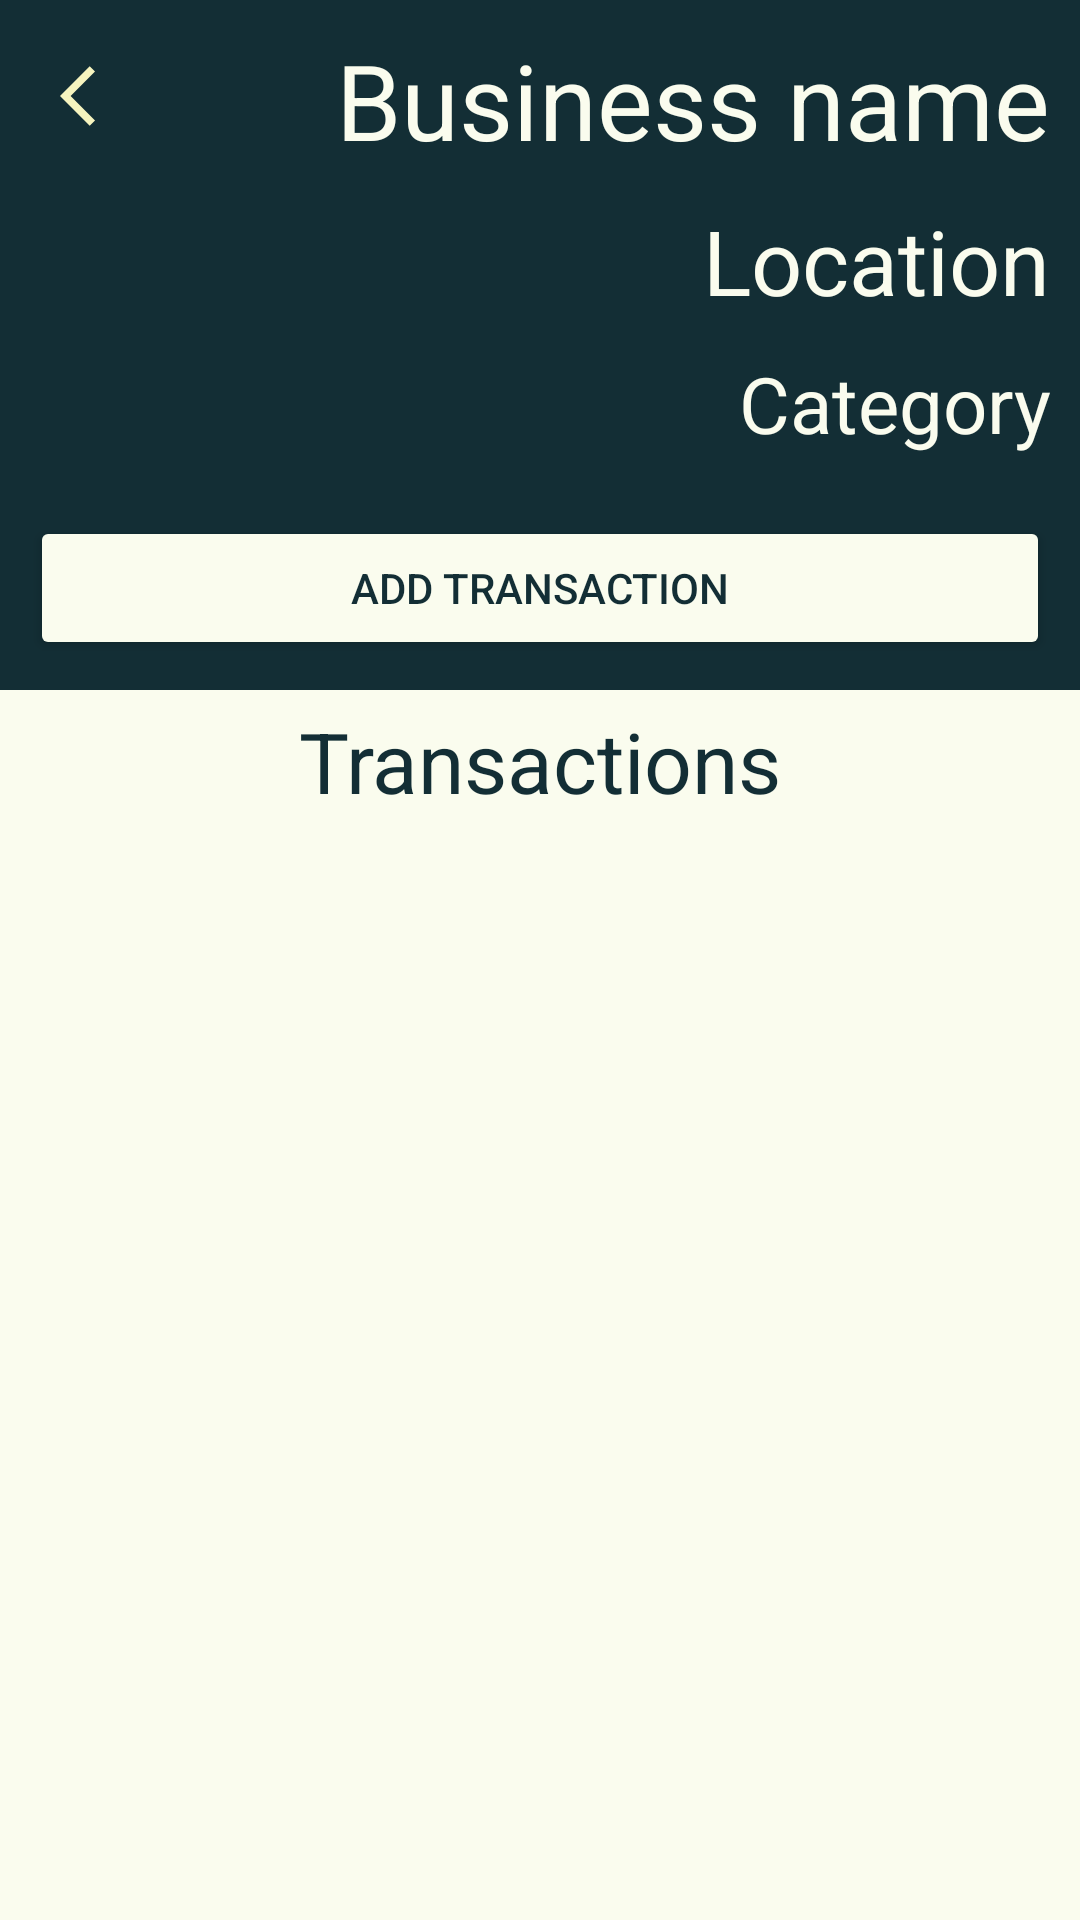

Icon click points for this 1080px x 1920px phone screenshot, format (x,y):
back arrow: (77,96)
